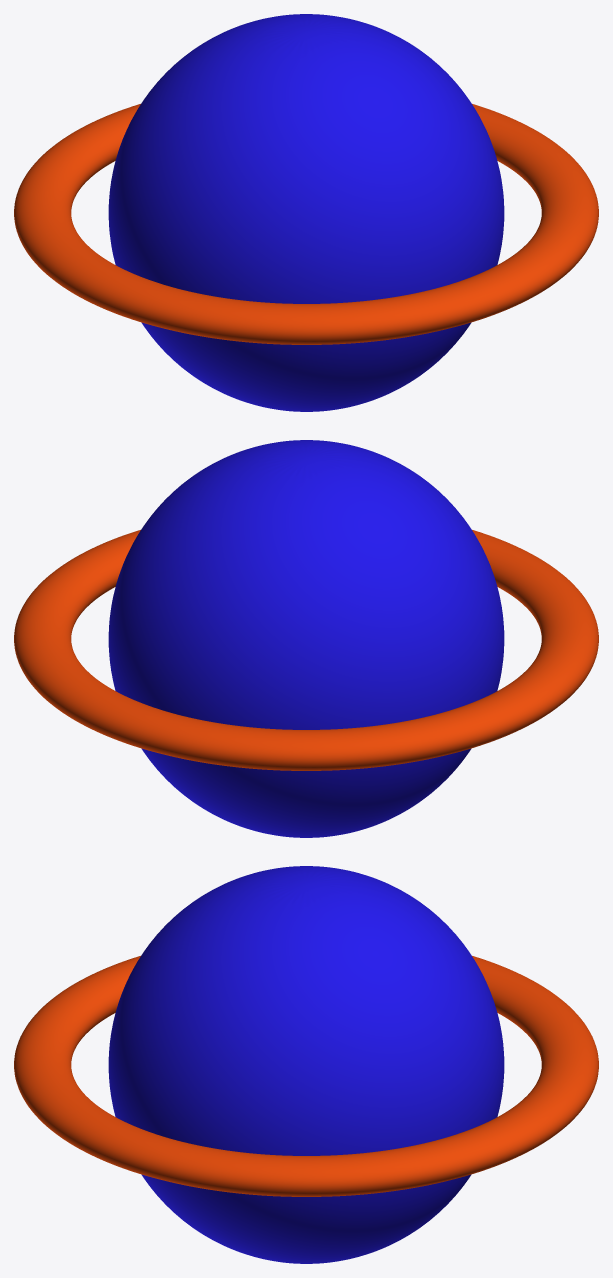
File: planet.glb
3 renders of one model, top to bottom at view 1: azimuth 30°, elevation 25°; view 2: azimuth 150°, elevation 25°; view 3: azimuth 270°, elevation 25°, orthographic.
Parts seen in each view (by area): view 1: Planet, Circle; view 2: Planet, Circle; view 3: Planet, Circle.
Part boxes in pixels (x1,y1,x2,y2): Planet: [108, 14, 504, 411]; Circle: [14, 104, 598, 344]; Planet: [108, 440, 504, 837]; Circle: [14, 530, 598, 770]; Planet: [108, 866, 504, 1263]; Circle: [14, 956, 598, 1196].
Size of the model in its own units: 28.39 by 19.41 by 28.39.
